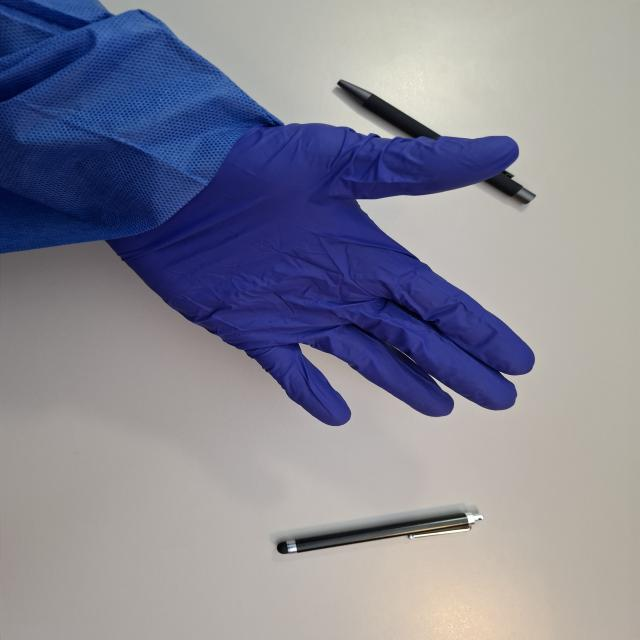glove_on: (98, 119, 538, 428)
